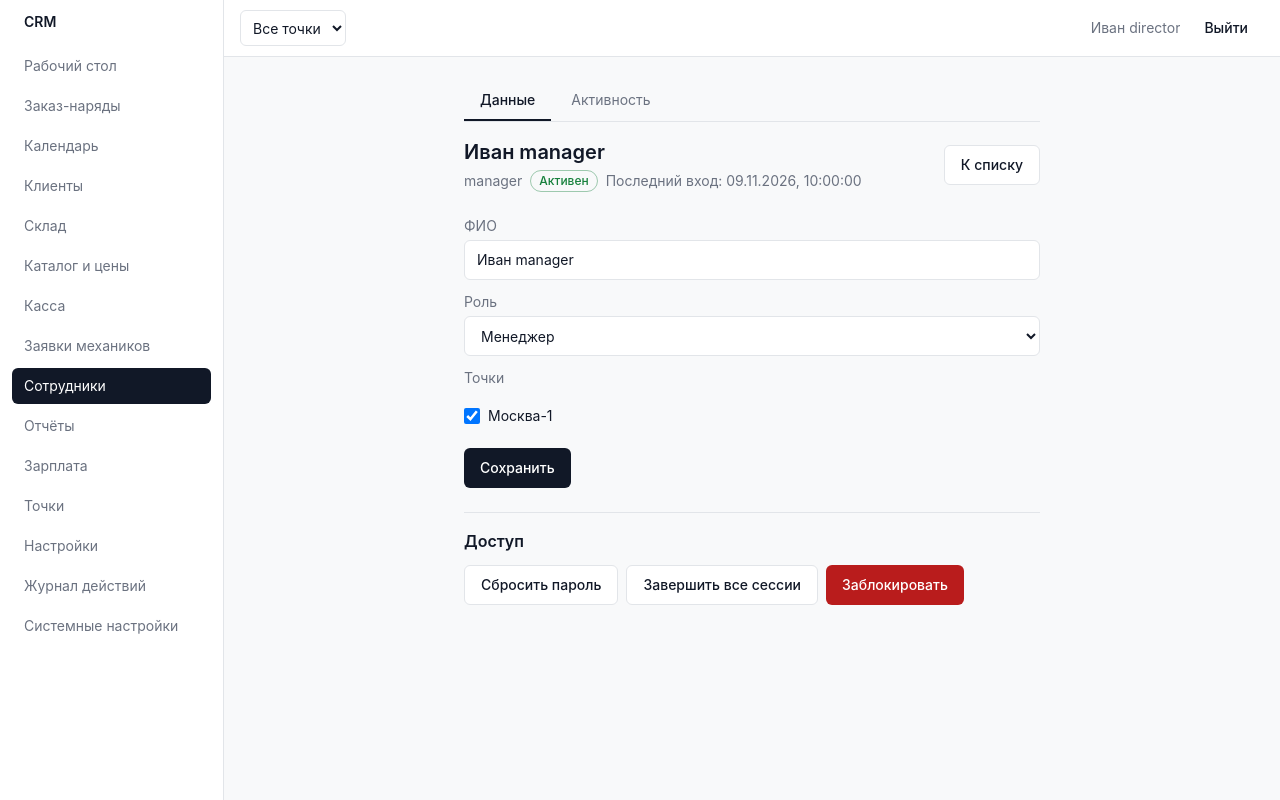
Test: сессии C-02 и D-05 › D-05: «Последний вход» и «Завершить все сессии»
Expected: the text "Последний вход: 09.11.2026, 10:00:00" is shown, [606, 171, 862, 191]
Click the button "Завершить все сессии": x=722, y=585 [626, 565, 818, 605]
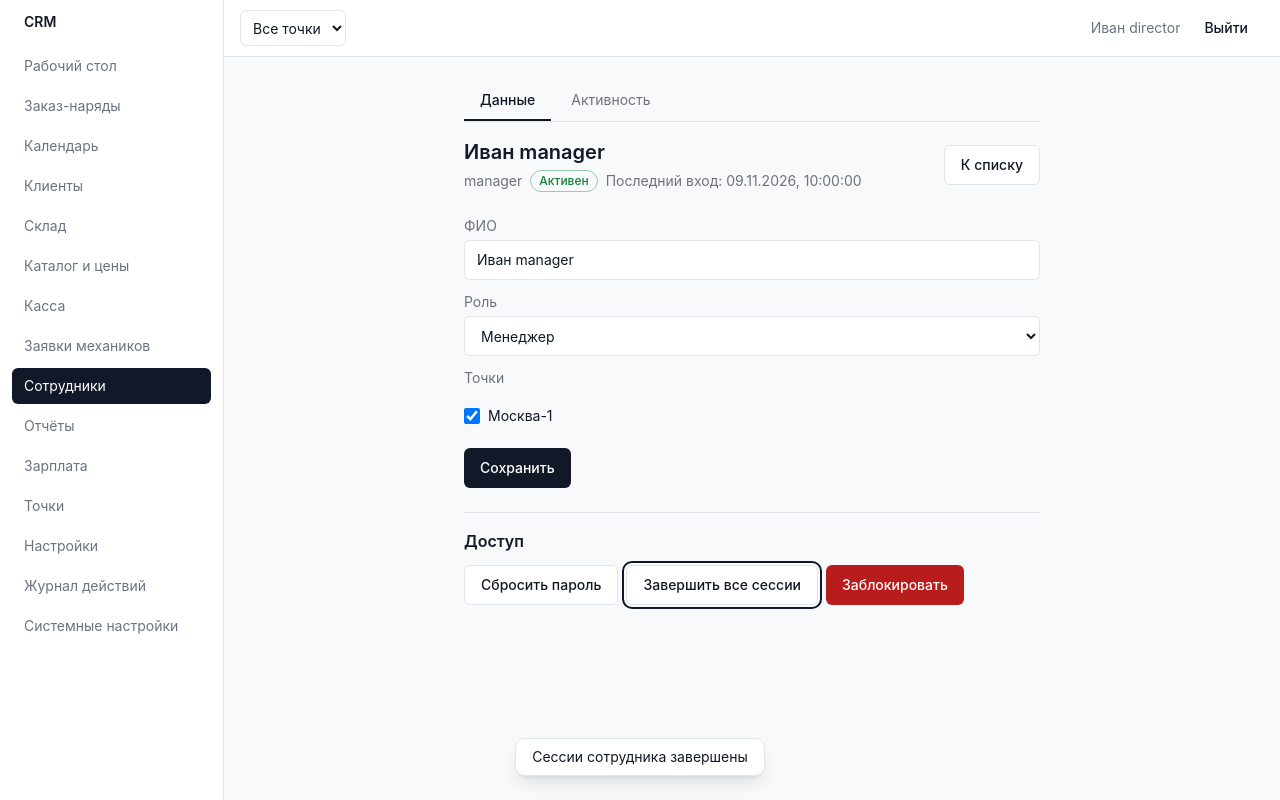
Expected: the text "Сессии сотрудника завершены" is shown, [515, 738, 765, 776]
